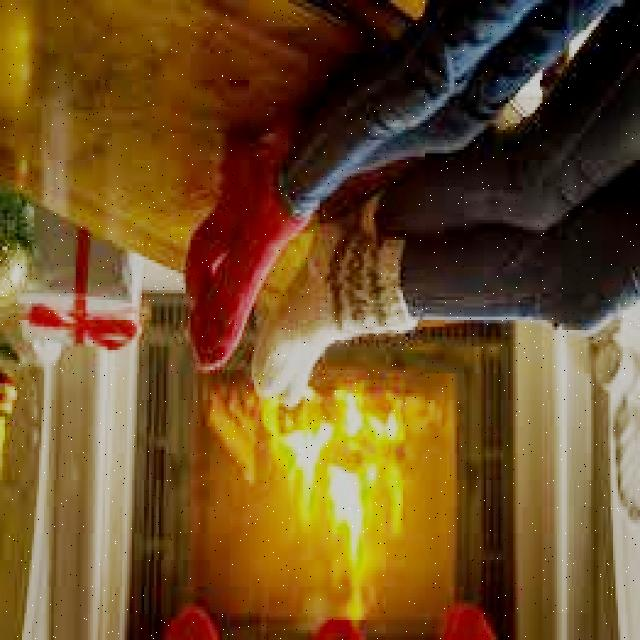api: (182, 388, 419, 594)
